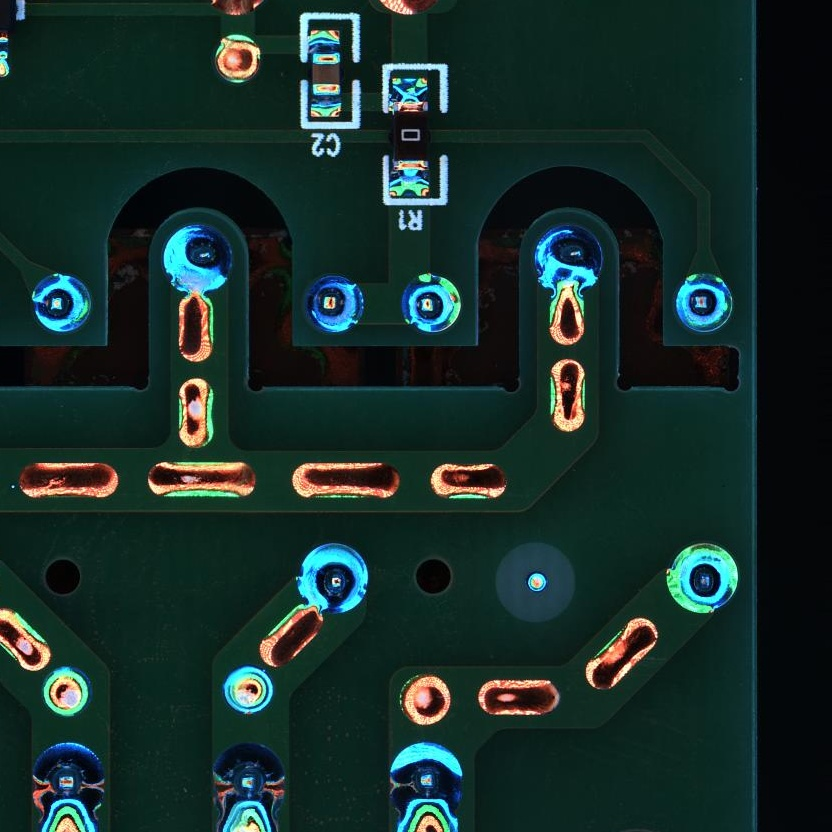spot: (31, 741, 107, 819), (389, 741, 465, 819), (211, 744, 286, 821), (295, 540, 370, 616), (663, 540, 740, 614), (161, 224, 235, 297), (532, 222, 605, 295), (31, 273, 95, 336), (398, 271, 462, 334), (674, 272, 735, 335), (304, 273, 365, 334), (221, 665, 273, 716), (41, 663, 89, 718)
